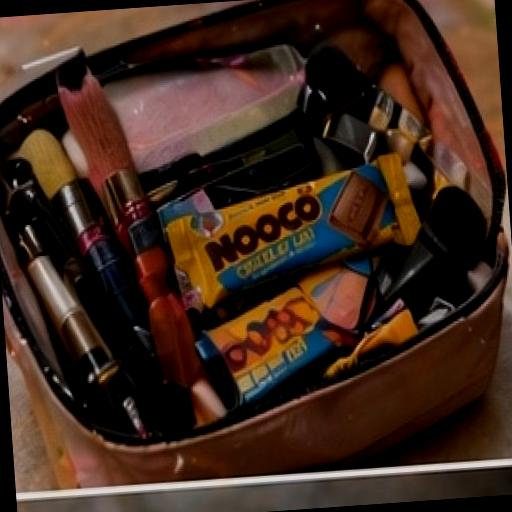nooco: (168, 262, 460, 390), (146, 156, 442, 280)
